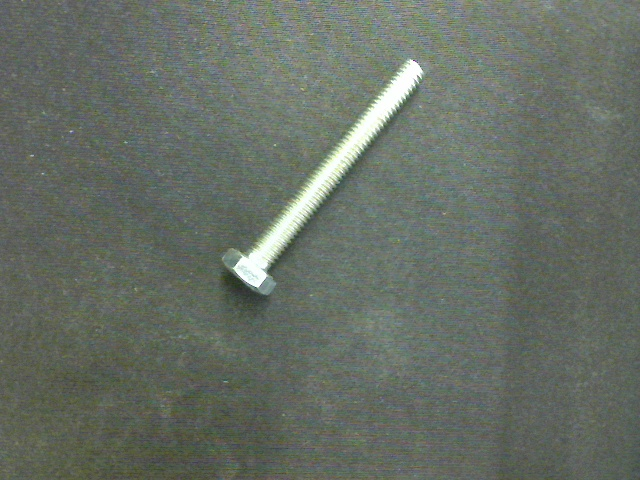Screw: (221, 60, 423, 296)
